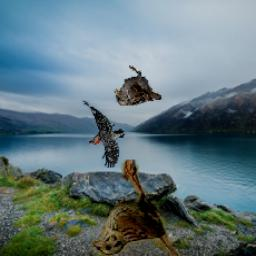Sparrow: (91, 161, 184, 256), (115, 64, 163, 106)
Woodpecker: (81, 101, 126, 169)
